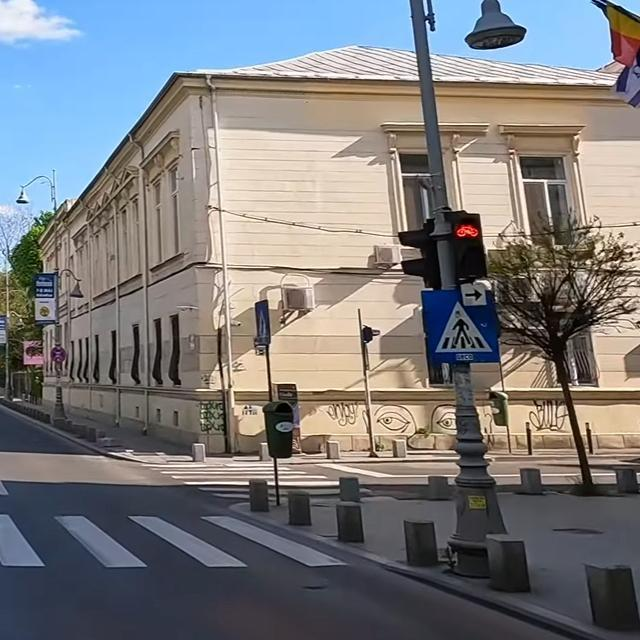info_crosswalk: (421, 288, 501, 363)
